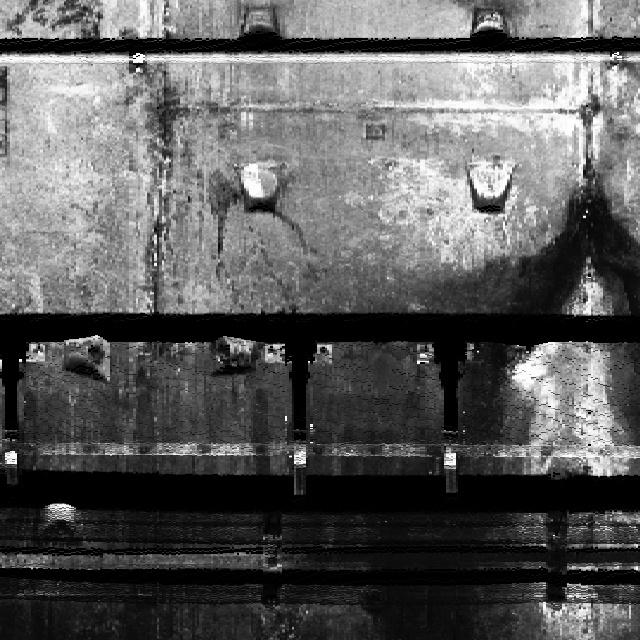leakage: (361, 160, 639, 634)
